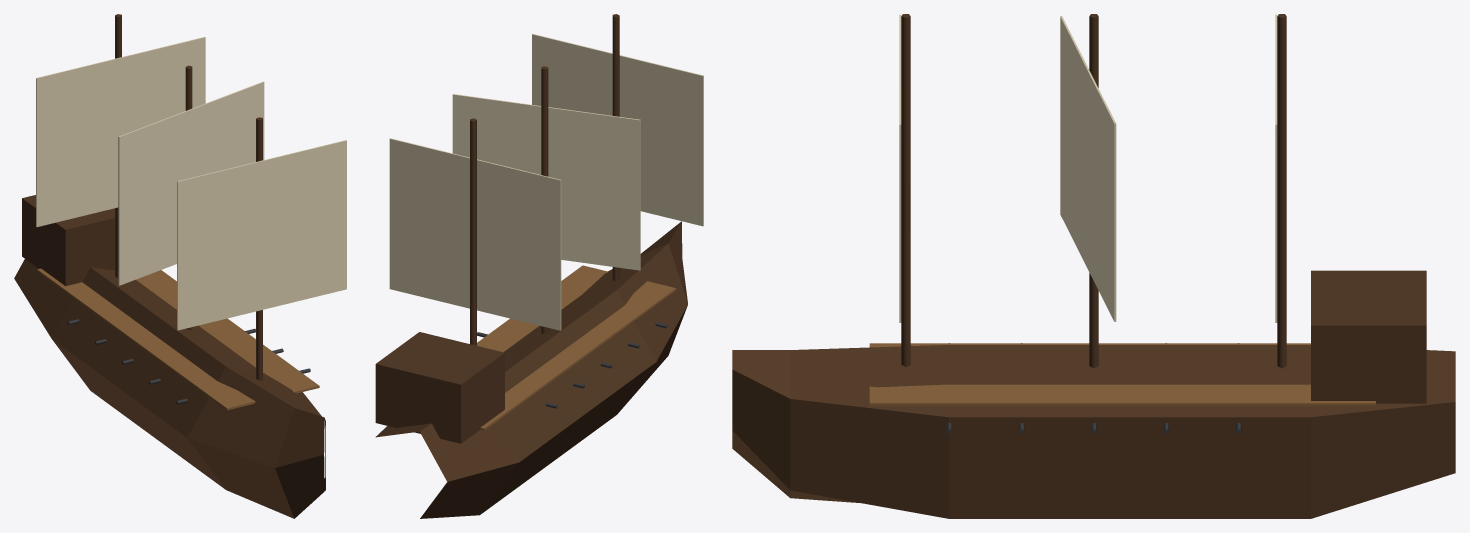
Rendered from veh_naval_warship_a04_lod1.glb.
3 views of the same model, side by side, from view 1: azimuth 30°, elevation 25°; view 2: azimuth 150°, elevation 25°; view 3: azimuth 270°, elevation 25° (orthographic). The views are drawn at different scales.
Parts seen in each view (by area): view 1: body, sail_2, sail_0, sail_1; view 2: body, sail_0, sail_1, sail_2; view 3: body, sail_1, sail_0, sail_2.
Boxes of the visible parts, left/top/right/bottom form: body: left=14, top=14, right=325, bottom=518; sail_2: left=177, top=140, right=346, bottom=330; sail_0: left=36, top=37, right=205, bottom=227; sail_1: left=118, top=81, right=264, bottom=285; body: left=375, top=14, right=687, bottom=518; sail_0: left=389, top=138, right=561, bottom=330; sail_1: left=452, top=94, right=640, bottom=270; sail_2: left=532, top=34, right=703, bottom=226; body: left=732, top=14, right=1455, bottom=518; sail_1: left=1060, top=16, right=1116, bottom=321; sail_0: left=1275, top=14, right=1277, bottom=322; sail_2: left=899, top=14, right=901, bottom=322.
Bounding box in the file's own units: 6.77 × 14.49 × 18.8.
